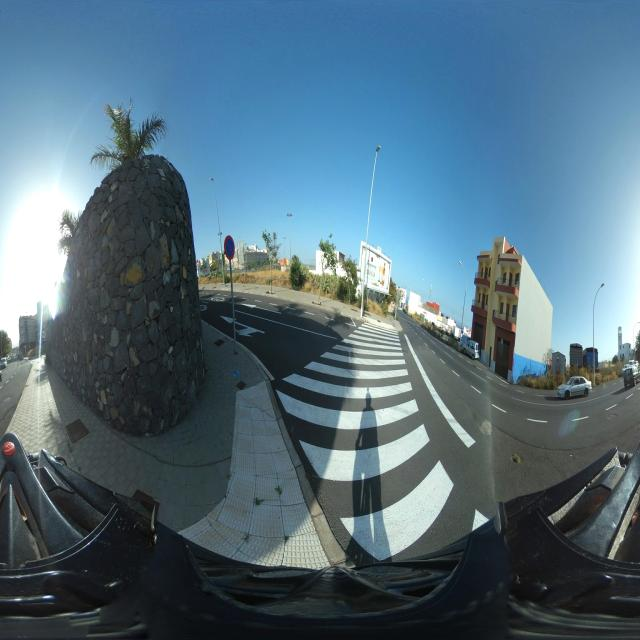car: (556, 374, 592, 400), (465, 338, 481, 360), (623, 363, 636, 388), (0, 356, 7, 368)
